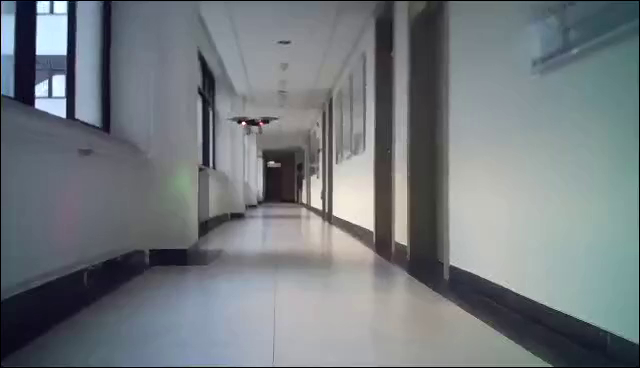drone: (226, 114, 279, 135)
